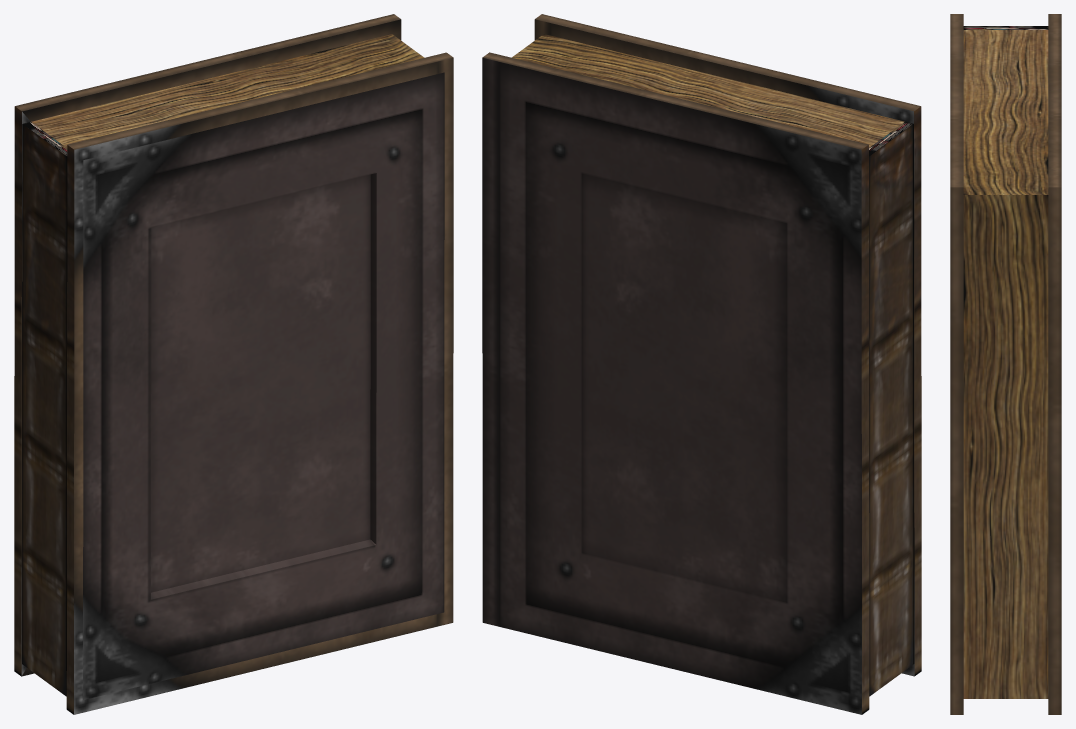
File: Book1.fbx
The picture shows the model from 3 angles, left to right: view 1: azimuth 30°, elevation 25°; view 2: azimuth 150°, elevation 25°; view 3: azimuth 270°, elevation 25°; orthographic projection. The views are drawn at different scales.
Visible parts, largest first — view 1: Book1; view 2: Book1; view 3: Book1.
Boxes of the visible parts, <box> form: Book1: <box>14,14,453,714</box>; Book1: <box>482,14,921,714</box>; Book1: <box>950,14,1061,714</box>.
Size of the model in its own units: 8.12 by 11.56 by 2.21.
